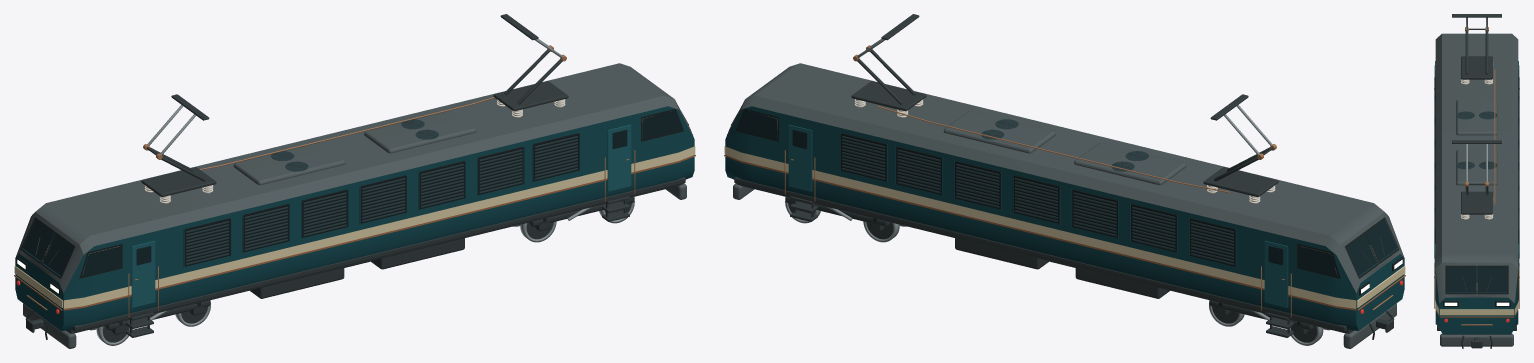
File: freight-cab.glb
3 renders of one model, left to right at view 1: azimuth 30°, elevation 25°; view 2: azimuth 150°, elevation 25°; view 3: azimuth 270°, elevation 25°, orthographic. The views are drawn at different scales.
Parts seen in each view (by area): view 1: body, bogieBack, bogieFront; view 2: body, bogieBack, bogieFront; view 3: body.
Boxes of the visible parts, bbox=[...] form: body: bbox=[14, 14, 695, 348]; bogieBack: bbox=[89, 300, 210, 345]; bogieFront: bbox=[513, 197, 634, 242]; body: bbox=[724, 14, 1405, 348]; bogieBack: bbox=[1209, 300, 1330, 345]; bogieFront: bbox=[785, 197, 906, 242]; body: bbox=[1434, 14, 1519, 348].
Size of the model in its own units: 20 by 6.12 by 2.9.
